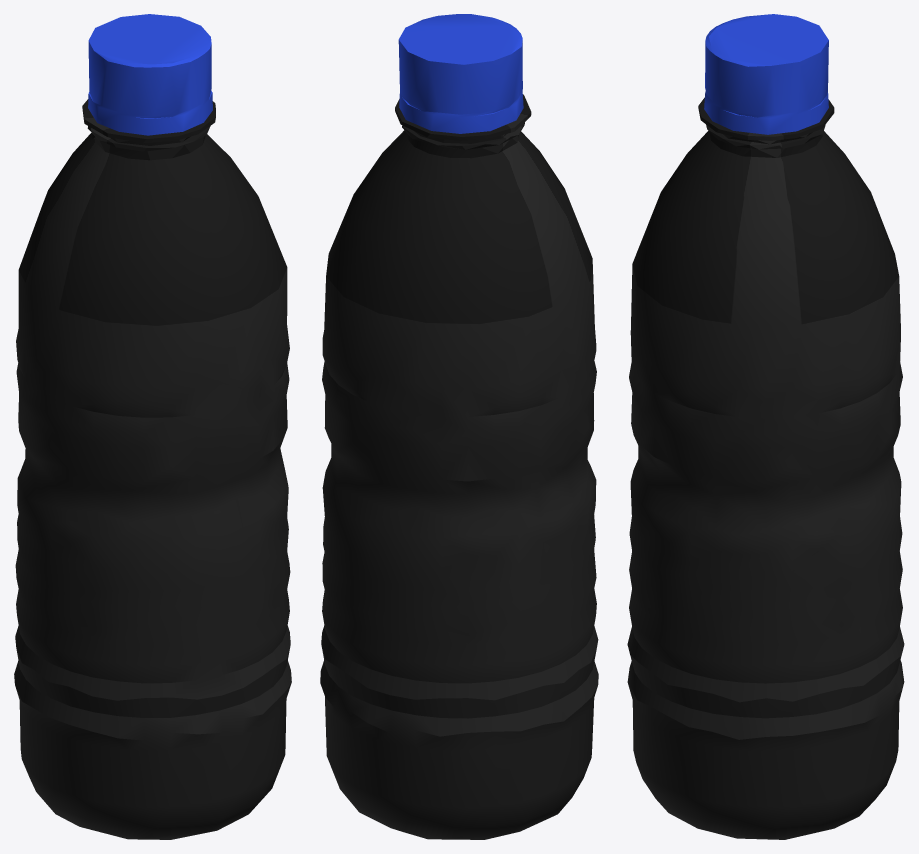
Rendered from bottle_LOD2.fbx.
3 renders of one model, left to right at view 1: azimuth 30°, elevation 25°; view 2: azimuth 150°, elevation 25°; view 3: azimuth 270°, elevation 25°, orthographic.
Parts seen in each view (by area): view 1: Cylinder_LOD2, bottle_cap_LOD2; view 2: Cylinder_LOD2, bottle_cap_LOD2; view 3: Cylinder_LOD2, bottle_cap_LOD2.
Part boxes in pixels (box(x1,y1,x2,y2)): Cylinder_LOD2: box(14, 99, 291, 839); bottle_cap_LOD2: box(88, 14, 212, 135); Cylinder_LOD2: box(320, 94, 598, 839); bottle_cap_LOD2: box(398, 14, 523, 133); Cylinder_LOD2: box(627, 97, 904, 839); bottle_cap_LOD2: box(704, 14, 828, 134).
Bounding box in the file's own units: 154 × 466 × 153.
2 materials, 1 textured.
